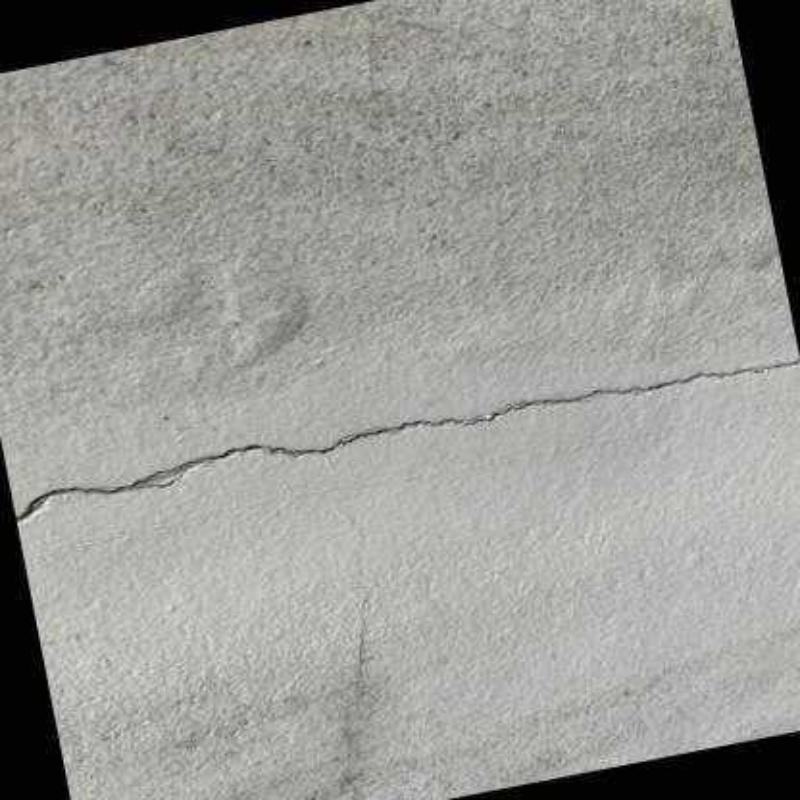pothole: (13, 353, 800, 525)
